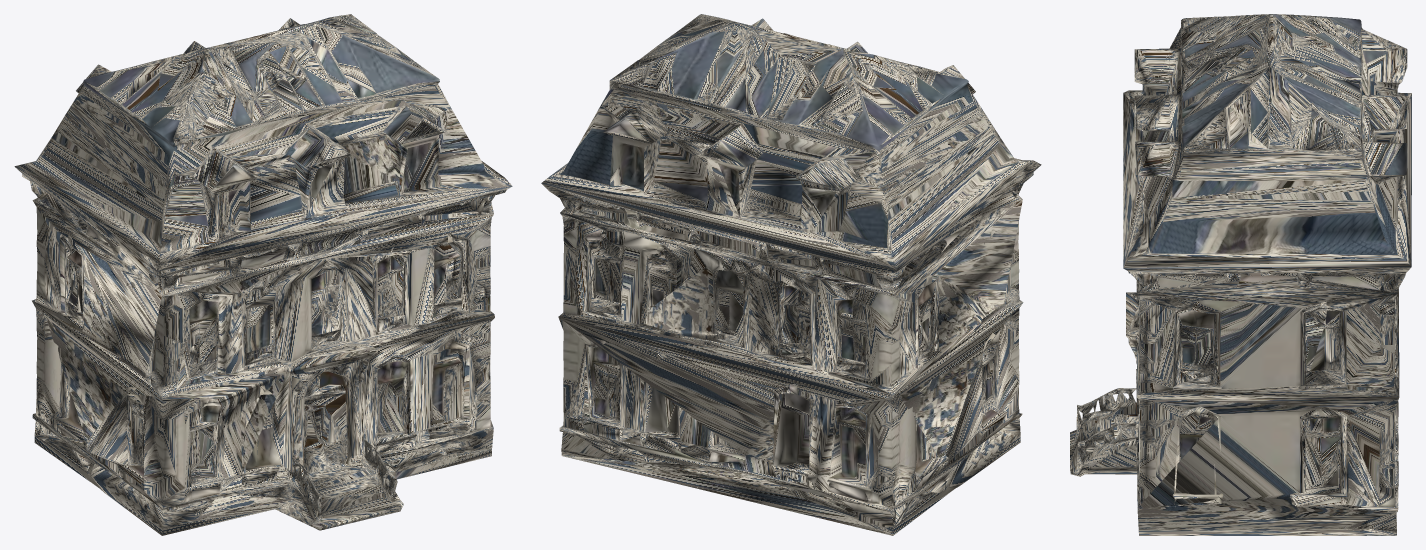
File: kestrohouse.lod1.glb
3 renders of one model, left to right at view 1: azimuth 30°, elevation 25°; view 2: azimuth 150°, elevation 25°; view 3: azimuth 270°, elevation 25°, orthographic.
Parts seen in each view (by area): view 1: kestrohouse-centred; view 2: kestrohouse-centred; view 3: kestrohouse-centred.
Part boxes in pixels (x1,y1,x2,y2): kestrohouse-centred: (14, 14, 512, 535); kestrohouse-centred: (541, 14, 1041, 535); kestrohouse-centred: (1070, 14, 1411, 535).
Size of the model in its own units: 14.4 by 16 by 11.94.
Materials: 1 (1 with a texture image).
